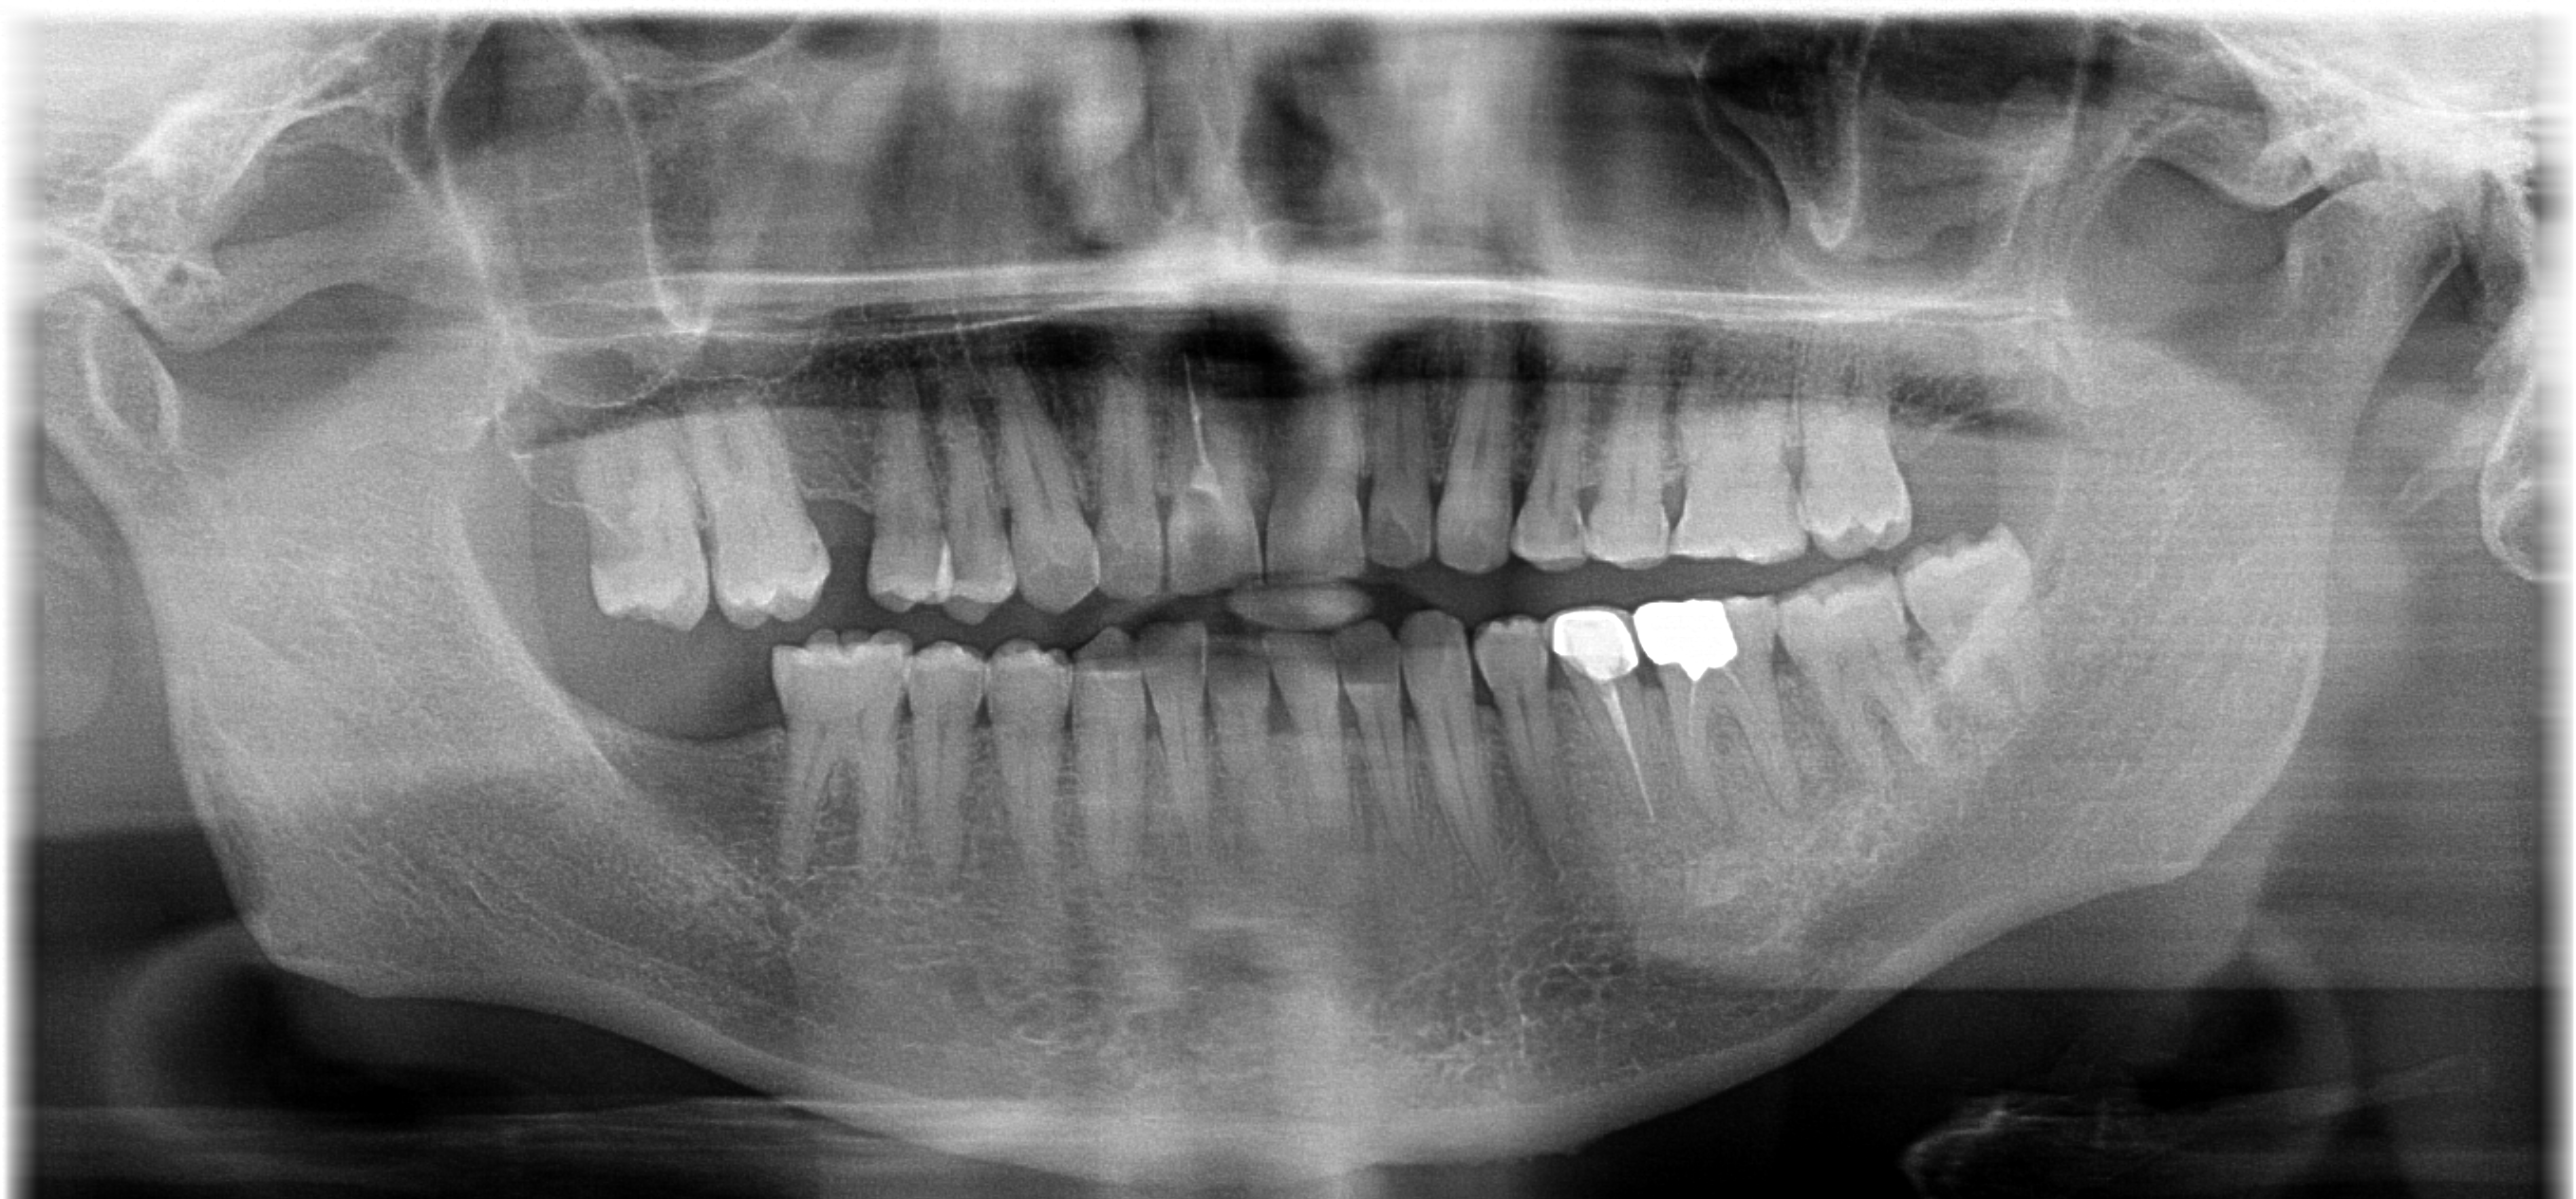cordal: (1893, 516, 2073, 742)
diastema: (808, 399, 889, 608)
tratamiento_conducto: (1520, 585, 1707, 854), (1626, 585, 1810, 829)
